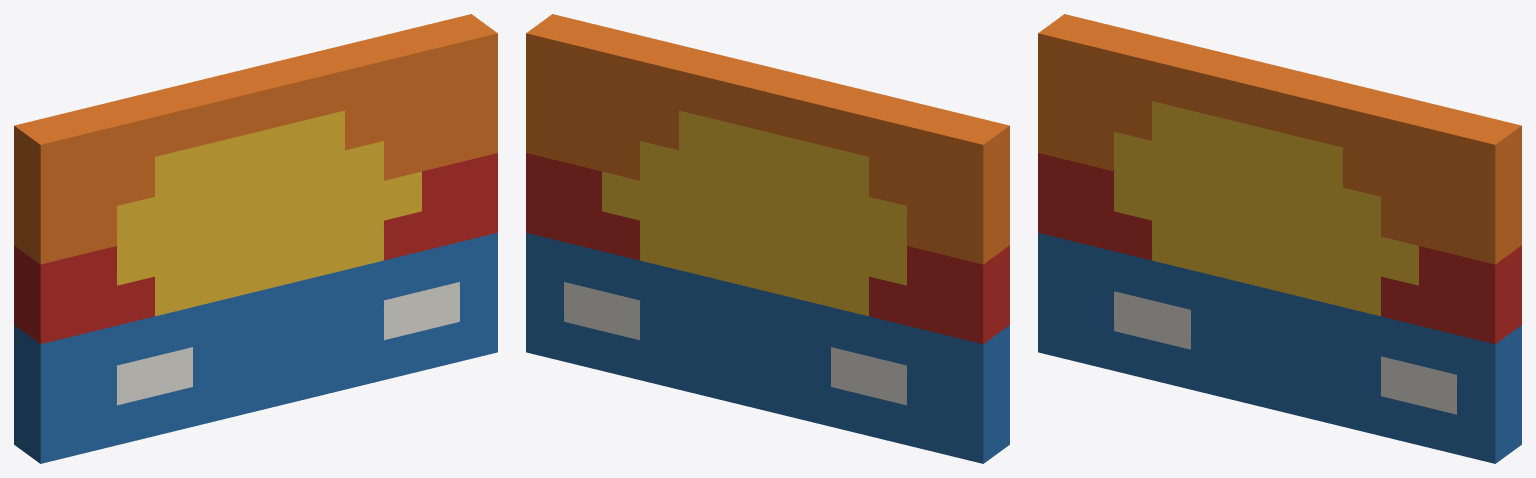
Rendered from magnet_sunset.glb.
The picture shows the model from 3 angles, left to right: view 1: azimuth 30°, elevation 25°; view 2: azimuth 150°, elevation 25°; view 3: azimuth 330°, elevation 25°; orthographic projection.
Parts seen in each view (by area): view 1: Magnet_sunset; view 2: Magnet_sunset; view 3: Magnet_sunset.
Part boxes in pixels (left/top/right/bottom): Magnet_sunset: left=14, top=14, right=497, bottom=463; Magnet_sunset: left=526, top=14, right=1009, bottom=463; Magnet_sunset: left=1038, top=14, right=1521, bottom=463.
Bounding box in the file's own units: 0.06 × 0.04 × 0.006.
1 material, 1 textured.
